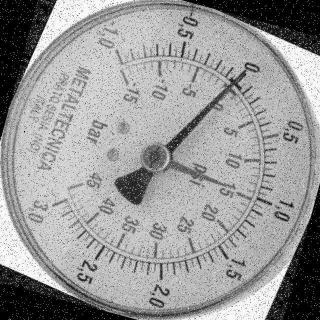gauge: (0, 0, 320, 320), (91, 29, 148, 87), (28, 182, 76, 229), (135, 137, 175, 177), (235, 62, 254, 82), (212, 176, 231, 192)
